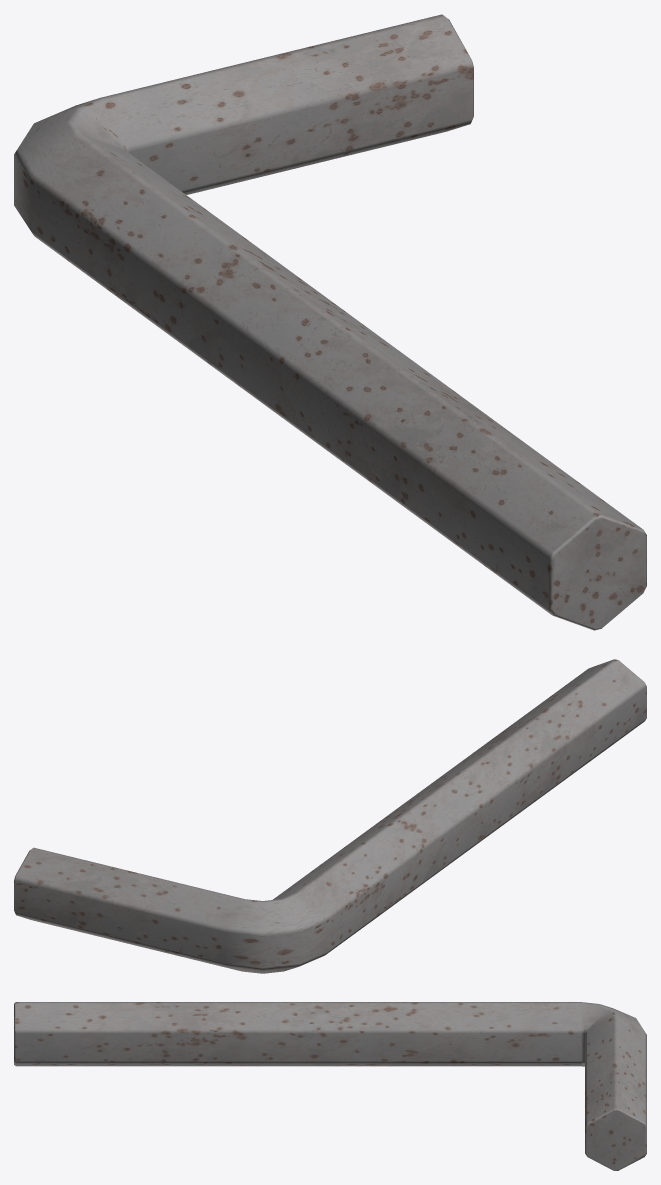
Rendered from innensechskant.fbx.
3 views of the same model, one above another, from view 1: azimuth 30°, elevation 25°; view 2: azimuth 150°, elevation 25°; view 3: azimuth 270°, elevation 25° (orthographic). The views are drawn at different scales.
Visible parts, largest first — view 1: innensechskant; view 2: innensechskant; view 3: innensechskant.
Part boxes in pixels (x1,y1,x2,y2): innensechskant: (14,14,646,630); innensechskant: (14,659,646,973); innensechskant: (14,1002,646,1170).
Bounding box in the file's own units: 103 × 25.14 × 231.
Materials: 1 (1 with a texture image).
